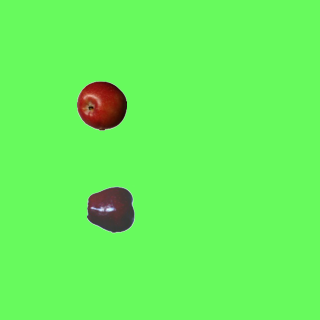Apple Braeburn: (76, 80, 126, 130)
Apple Red Delicious: (86, 184, 136, 234)
